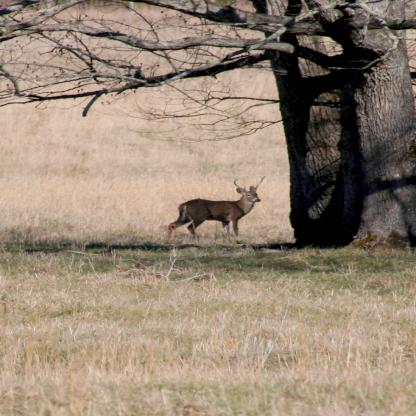Deer: (164, 176, 267, 244)
